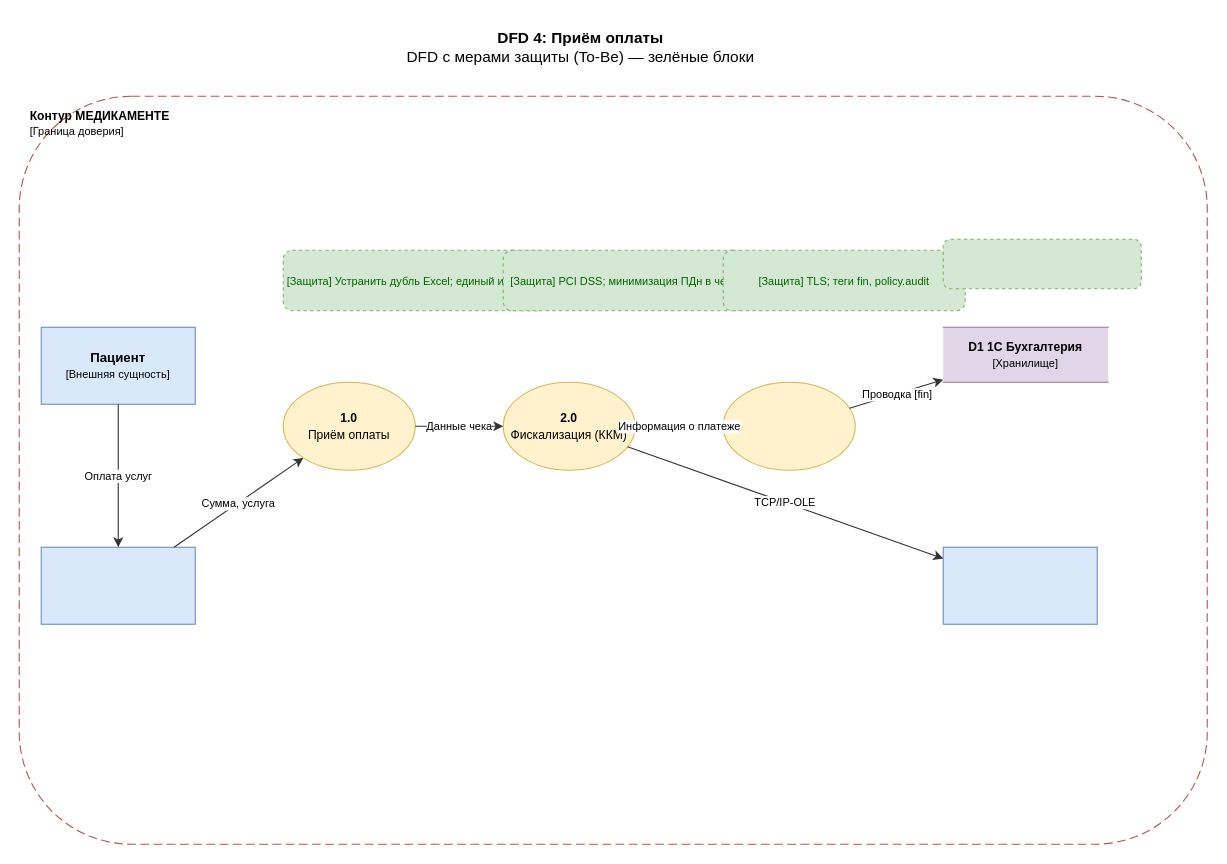
Image size: 1227x864. Some labels were removed from this diagram. The centre of each missing label's shape, as x and y in pixels:
"3.0 Учёт в 1С" goes at point 788,425.
"[Защита] Шифрование at rest" goes at point 1041,263.
"Кассир [Внешняя сущность]" goes at point 117,585.
"ККМ [Внешняя сущность]" goes at point 1019,585.
